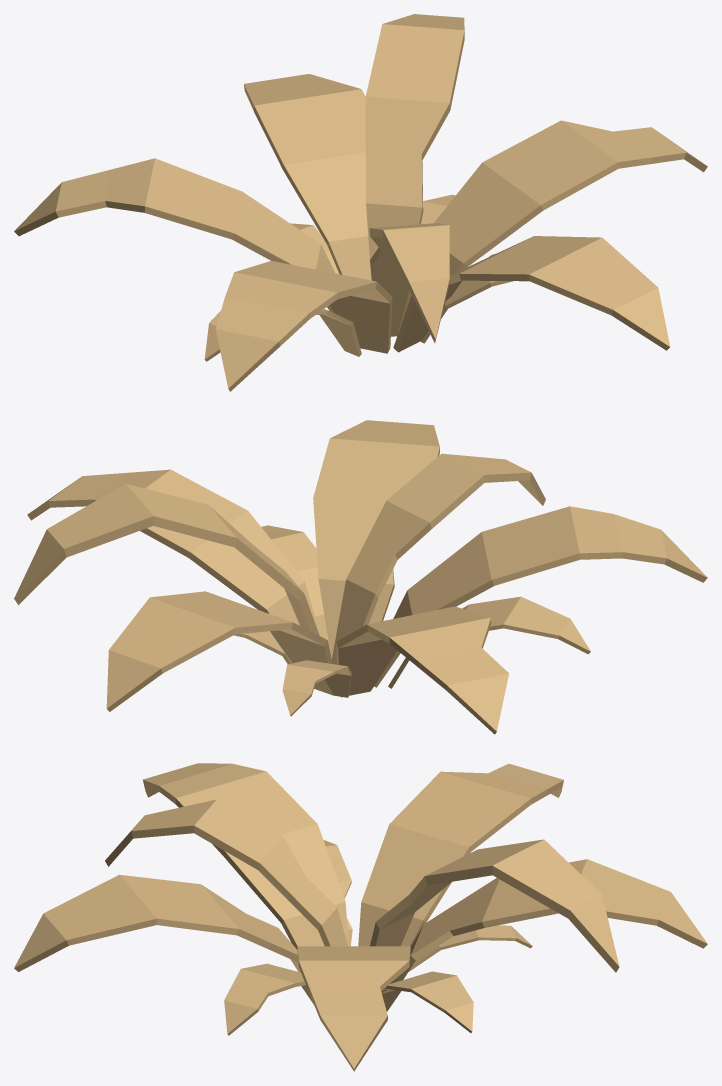
Rendered from Mega_Asset_s_Pack_Plane_186.FBX.
3 renders of one model, top to bottom at view 1: azimuth 30°, elevation 25°; view 2: azimuth 150°, elevation 25°; view 3: azimuth 270°, elevation 25°, orthographic. The views are drawn at different scales.
Parts seen in each view (by area): view 1: Mega_Asset_s_Pack_Plane_186; view 2: Mega_Asset_s_Pack_Plane_186; view 3: Mega_Asset_s_Pack_Plane_186.
Part boxes in pixels (left/top/right/bottom): Mega_Asset_s_Pack_Plane_186: left=14, top=14, right=707, bottom=391; Mega_Asset_s_Pack_Plane_186: left=14, top=420, right=707, bottom=734; Mega_Asset_s_Pack_Plane_186: left=14, top=763, right=707, bottom=1071.
Size of what is drawn, in the model's own units: 223 by 235 by 79.74.
